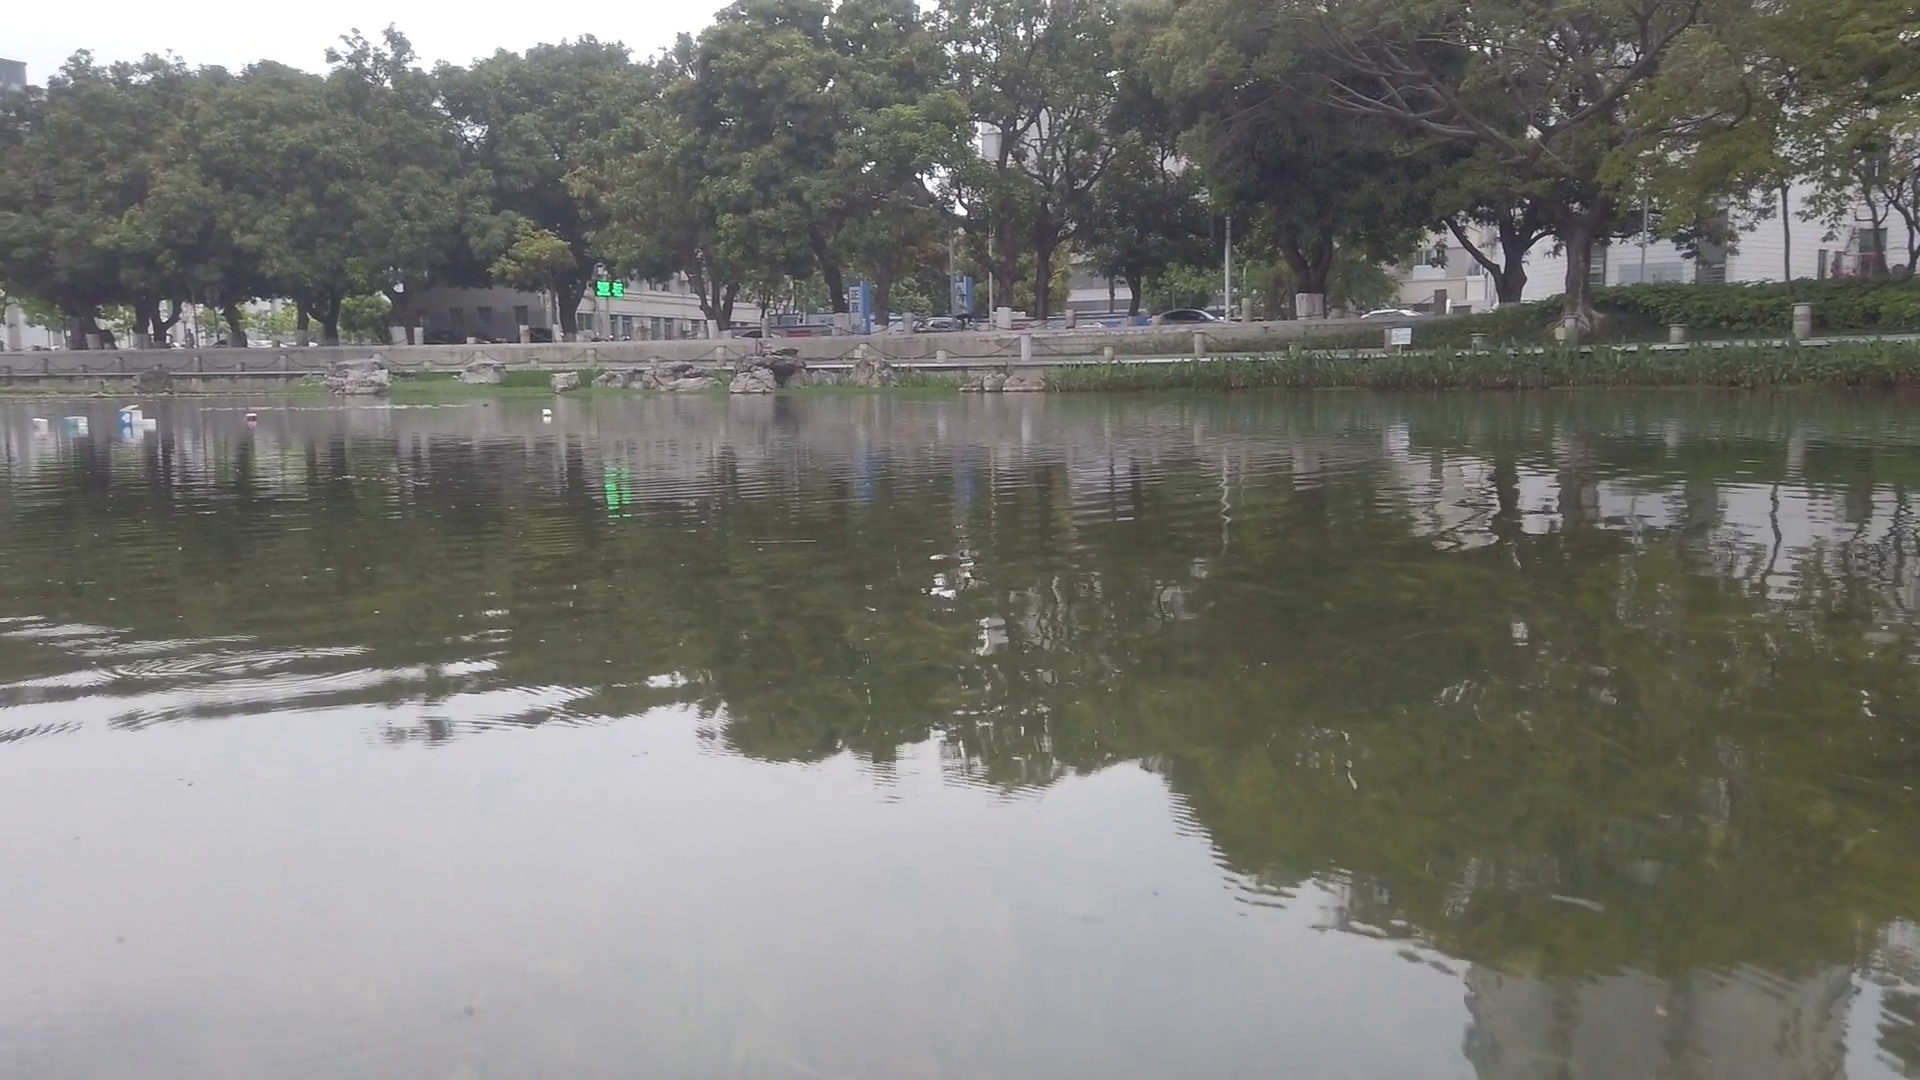bottle: (244, 410, 258, 423)
carton: (117, 404, 144, 426), (65, 415, 91, 429), (32, 417, 51, 430), (542, 409, 553, 418)
